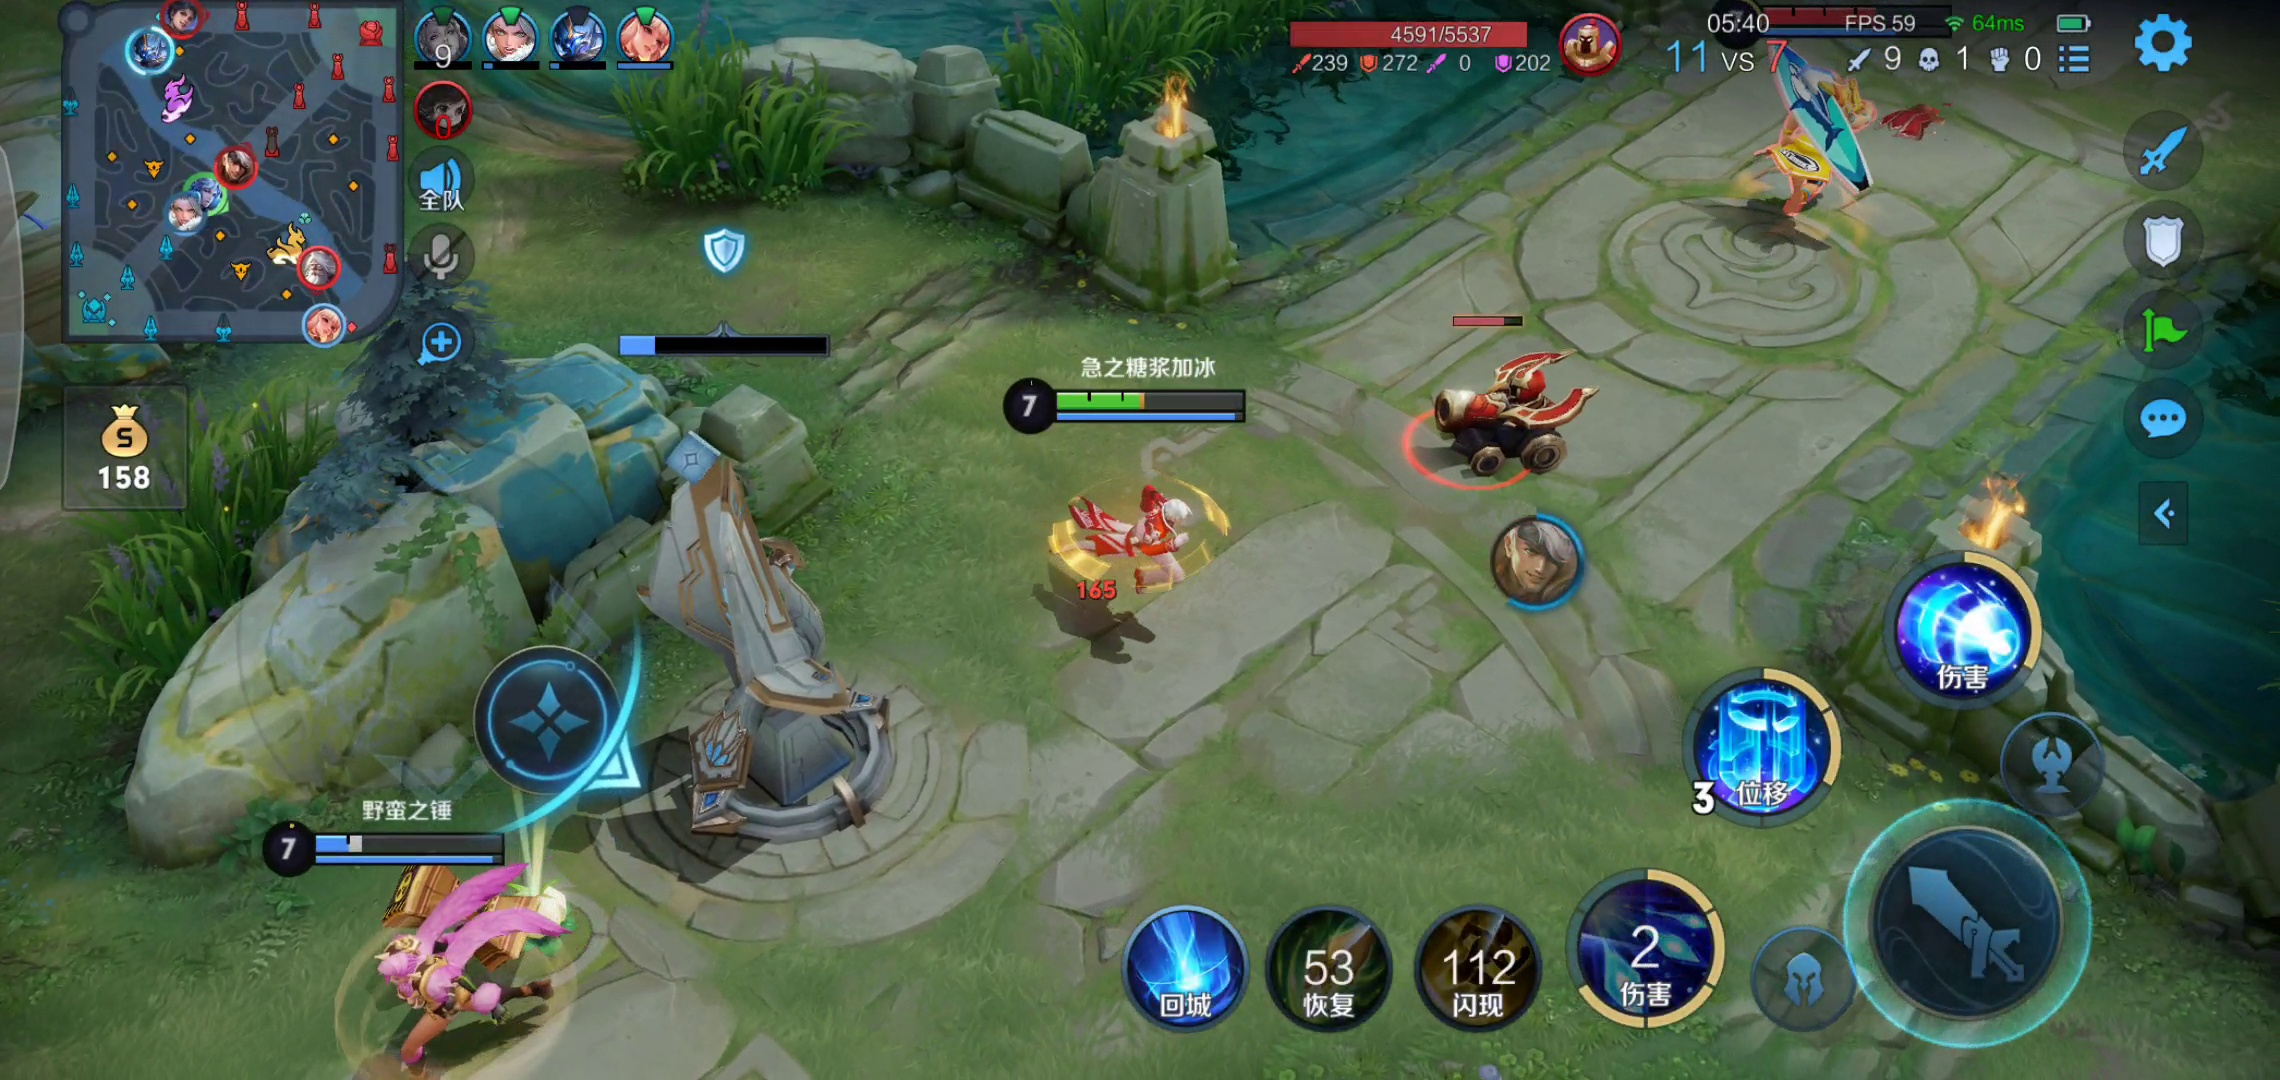grass: (64, 395, 332, 724), (602, 57, 849, 205), (984, 9, 1339, 110)
hero: (301, 850, 606, 1055), (1035, 456, 1240, 610), (1725, 60, 1898, 222)
soldier: (1434, 347, 1594, 475)
tower: (601, 462, 935, 868)
